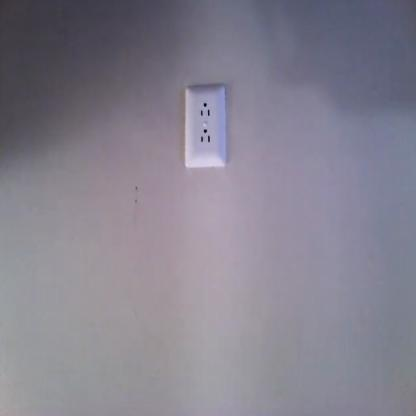OUTLET: (184, 84, 226, 169)
